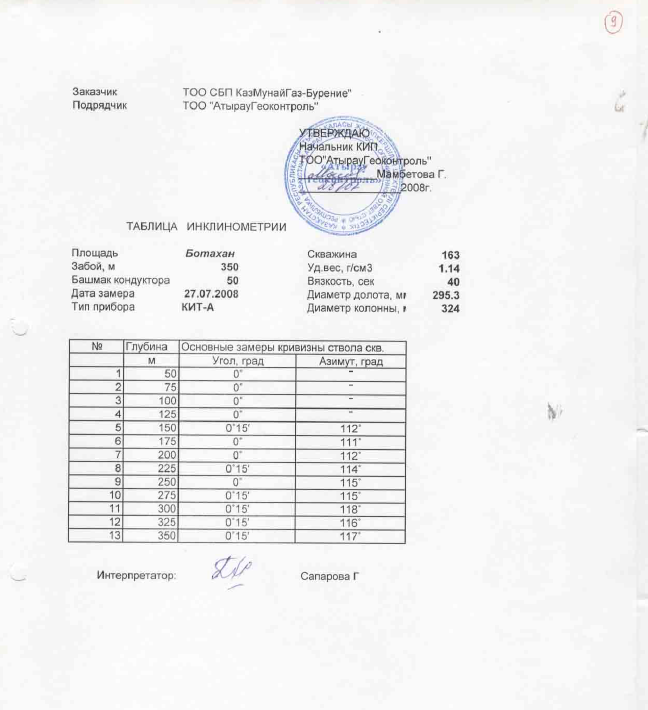Bordered: (69, 338, 407, 545)
